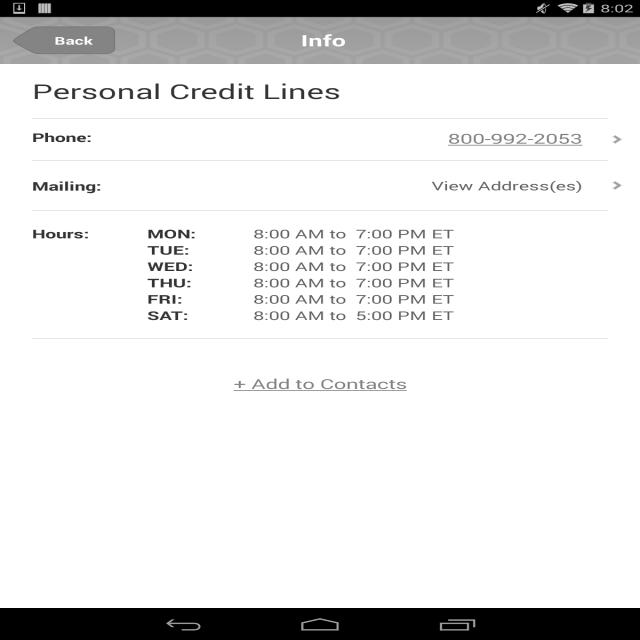Button: (13, 26, 115, 55)
ImageView: (595, 161, 624, 210), (595, 129, 624, 150)
TextView: (0, 374, 640, 409), (121, 17, 524, 64), (32, 64, 341, 118), (432, 161, 582, 210), (243, 241, 640, 258), (243, 257, 640, 274), (243, 290, 640, 307), (243, 306, 640, 323), (243, 225, 640, 241), (243, 274, 640, 290), (32, 162, 101, 210), (448, 129, 582, 148), (147, 225, 230, 242), (147, 274, 230, 291), (147, 242, 230, 258), (147, 258, 230, 274), (147, 291, 230, 307), (147, 307, 230, 323), (32, 225, 89, 242), (32, 129, 92, 145)
